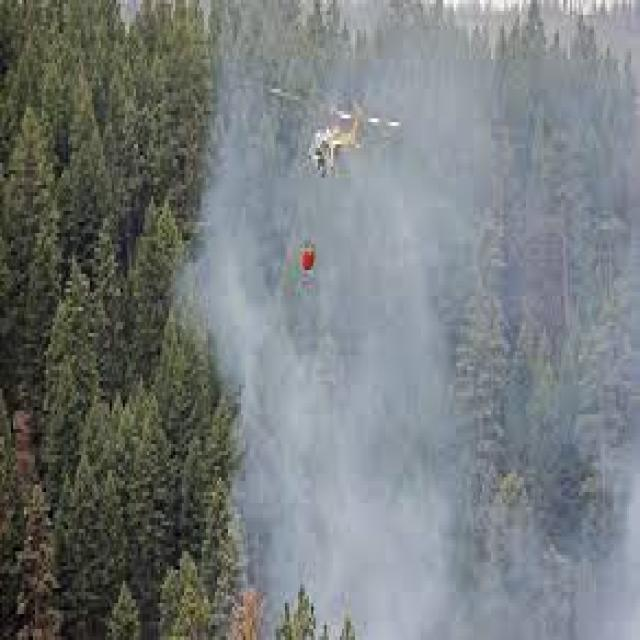Smoke: (438, 12, 640, 633), (186, 267, 464, 640), (340, 174, 626, 496), (218, 113, 287, 359)
